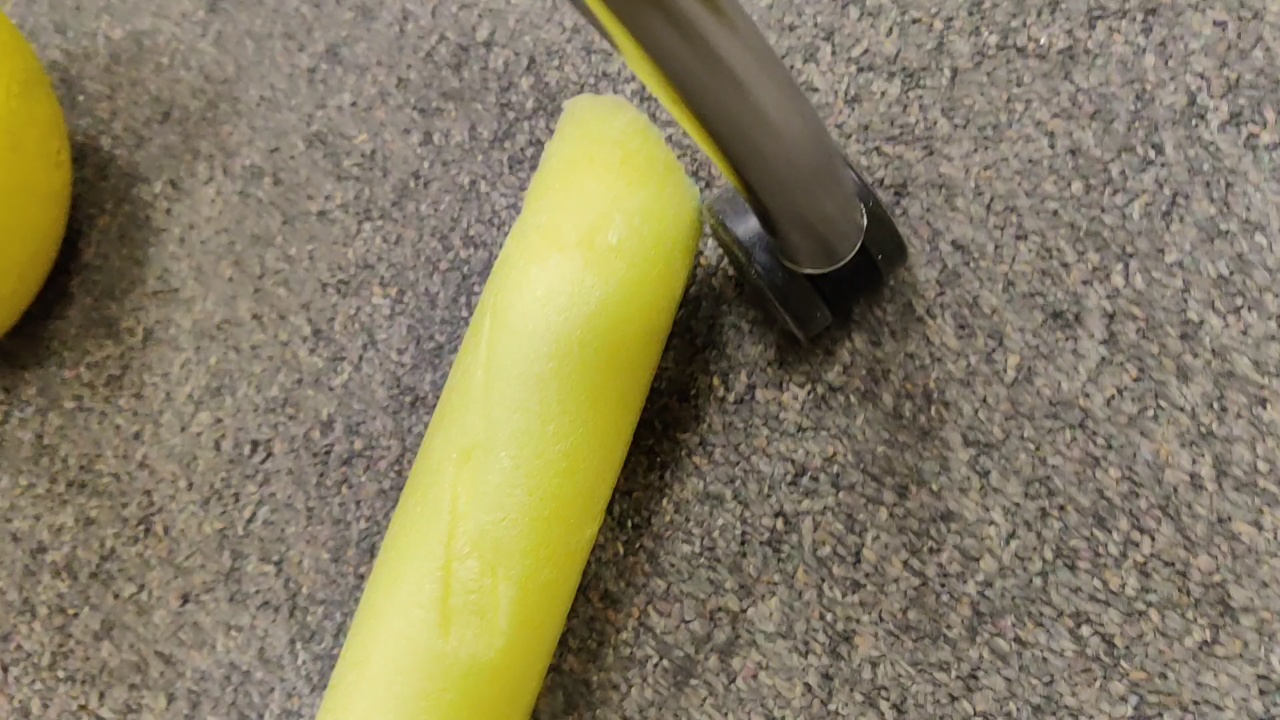Ball: (1, 3, 77, 310)
